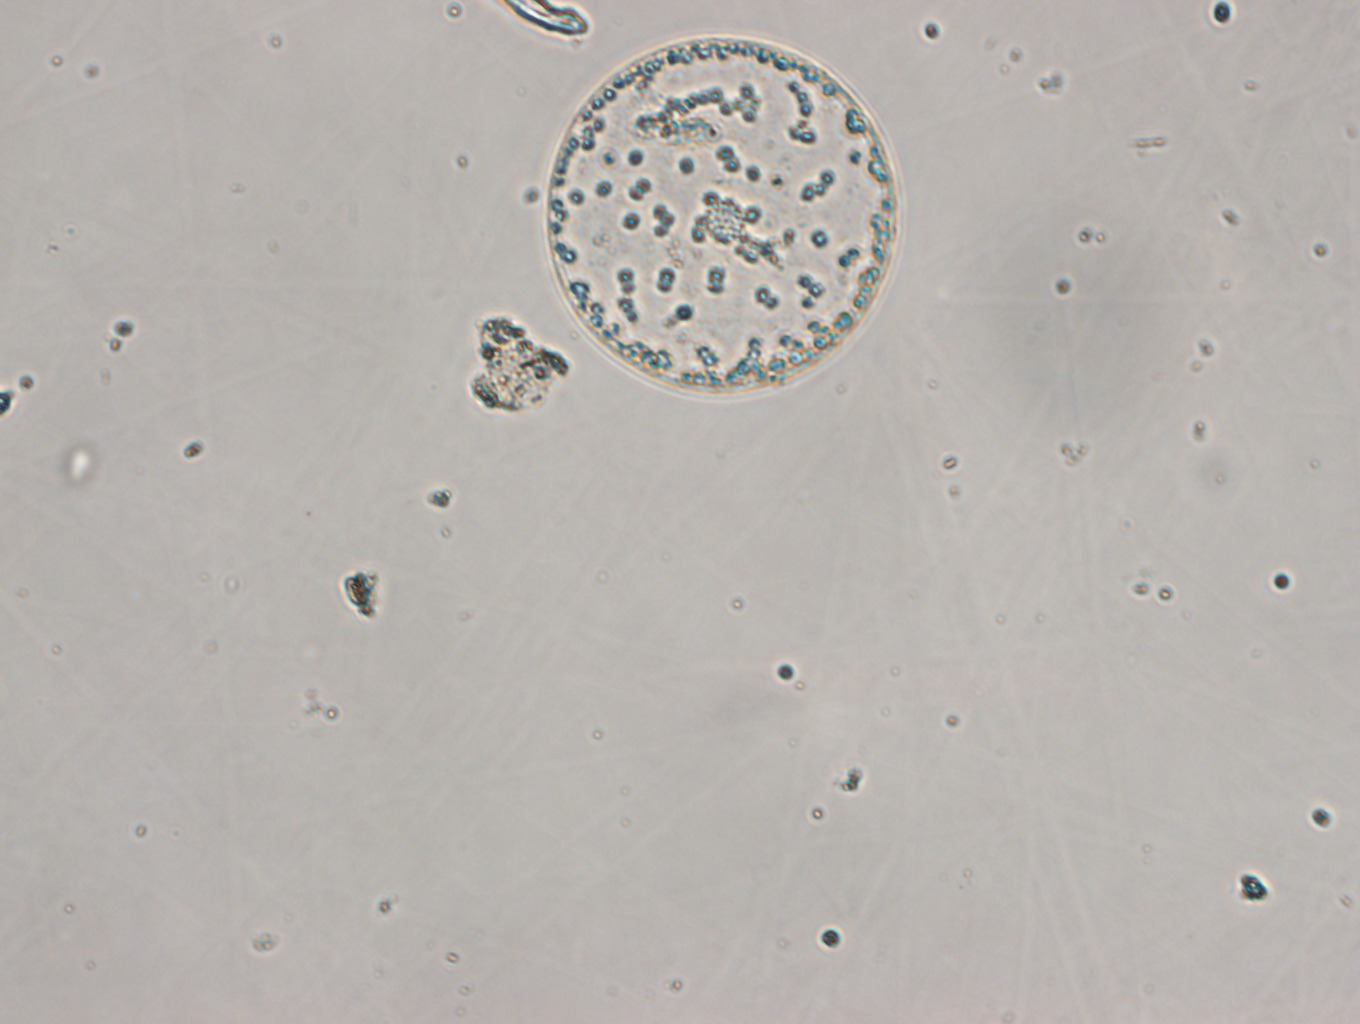coscinodiscus: (546, 35, 897, 392)
